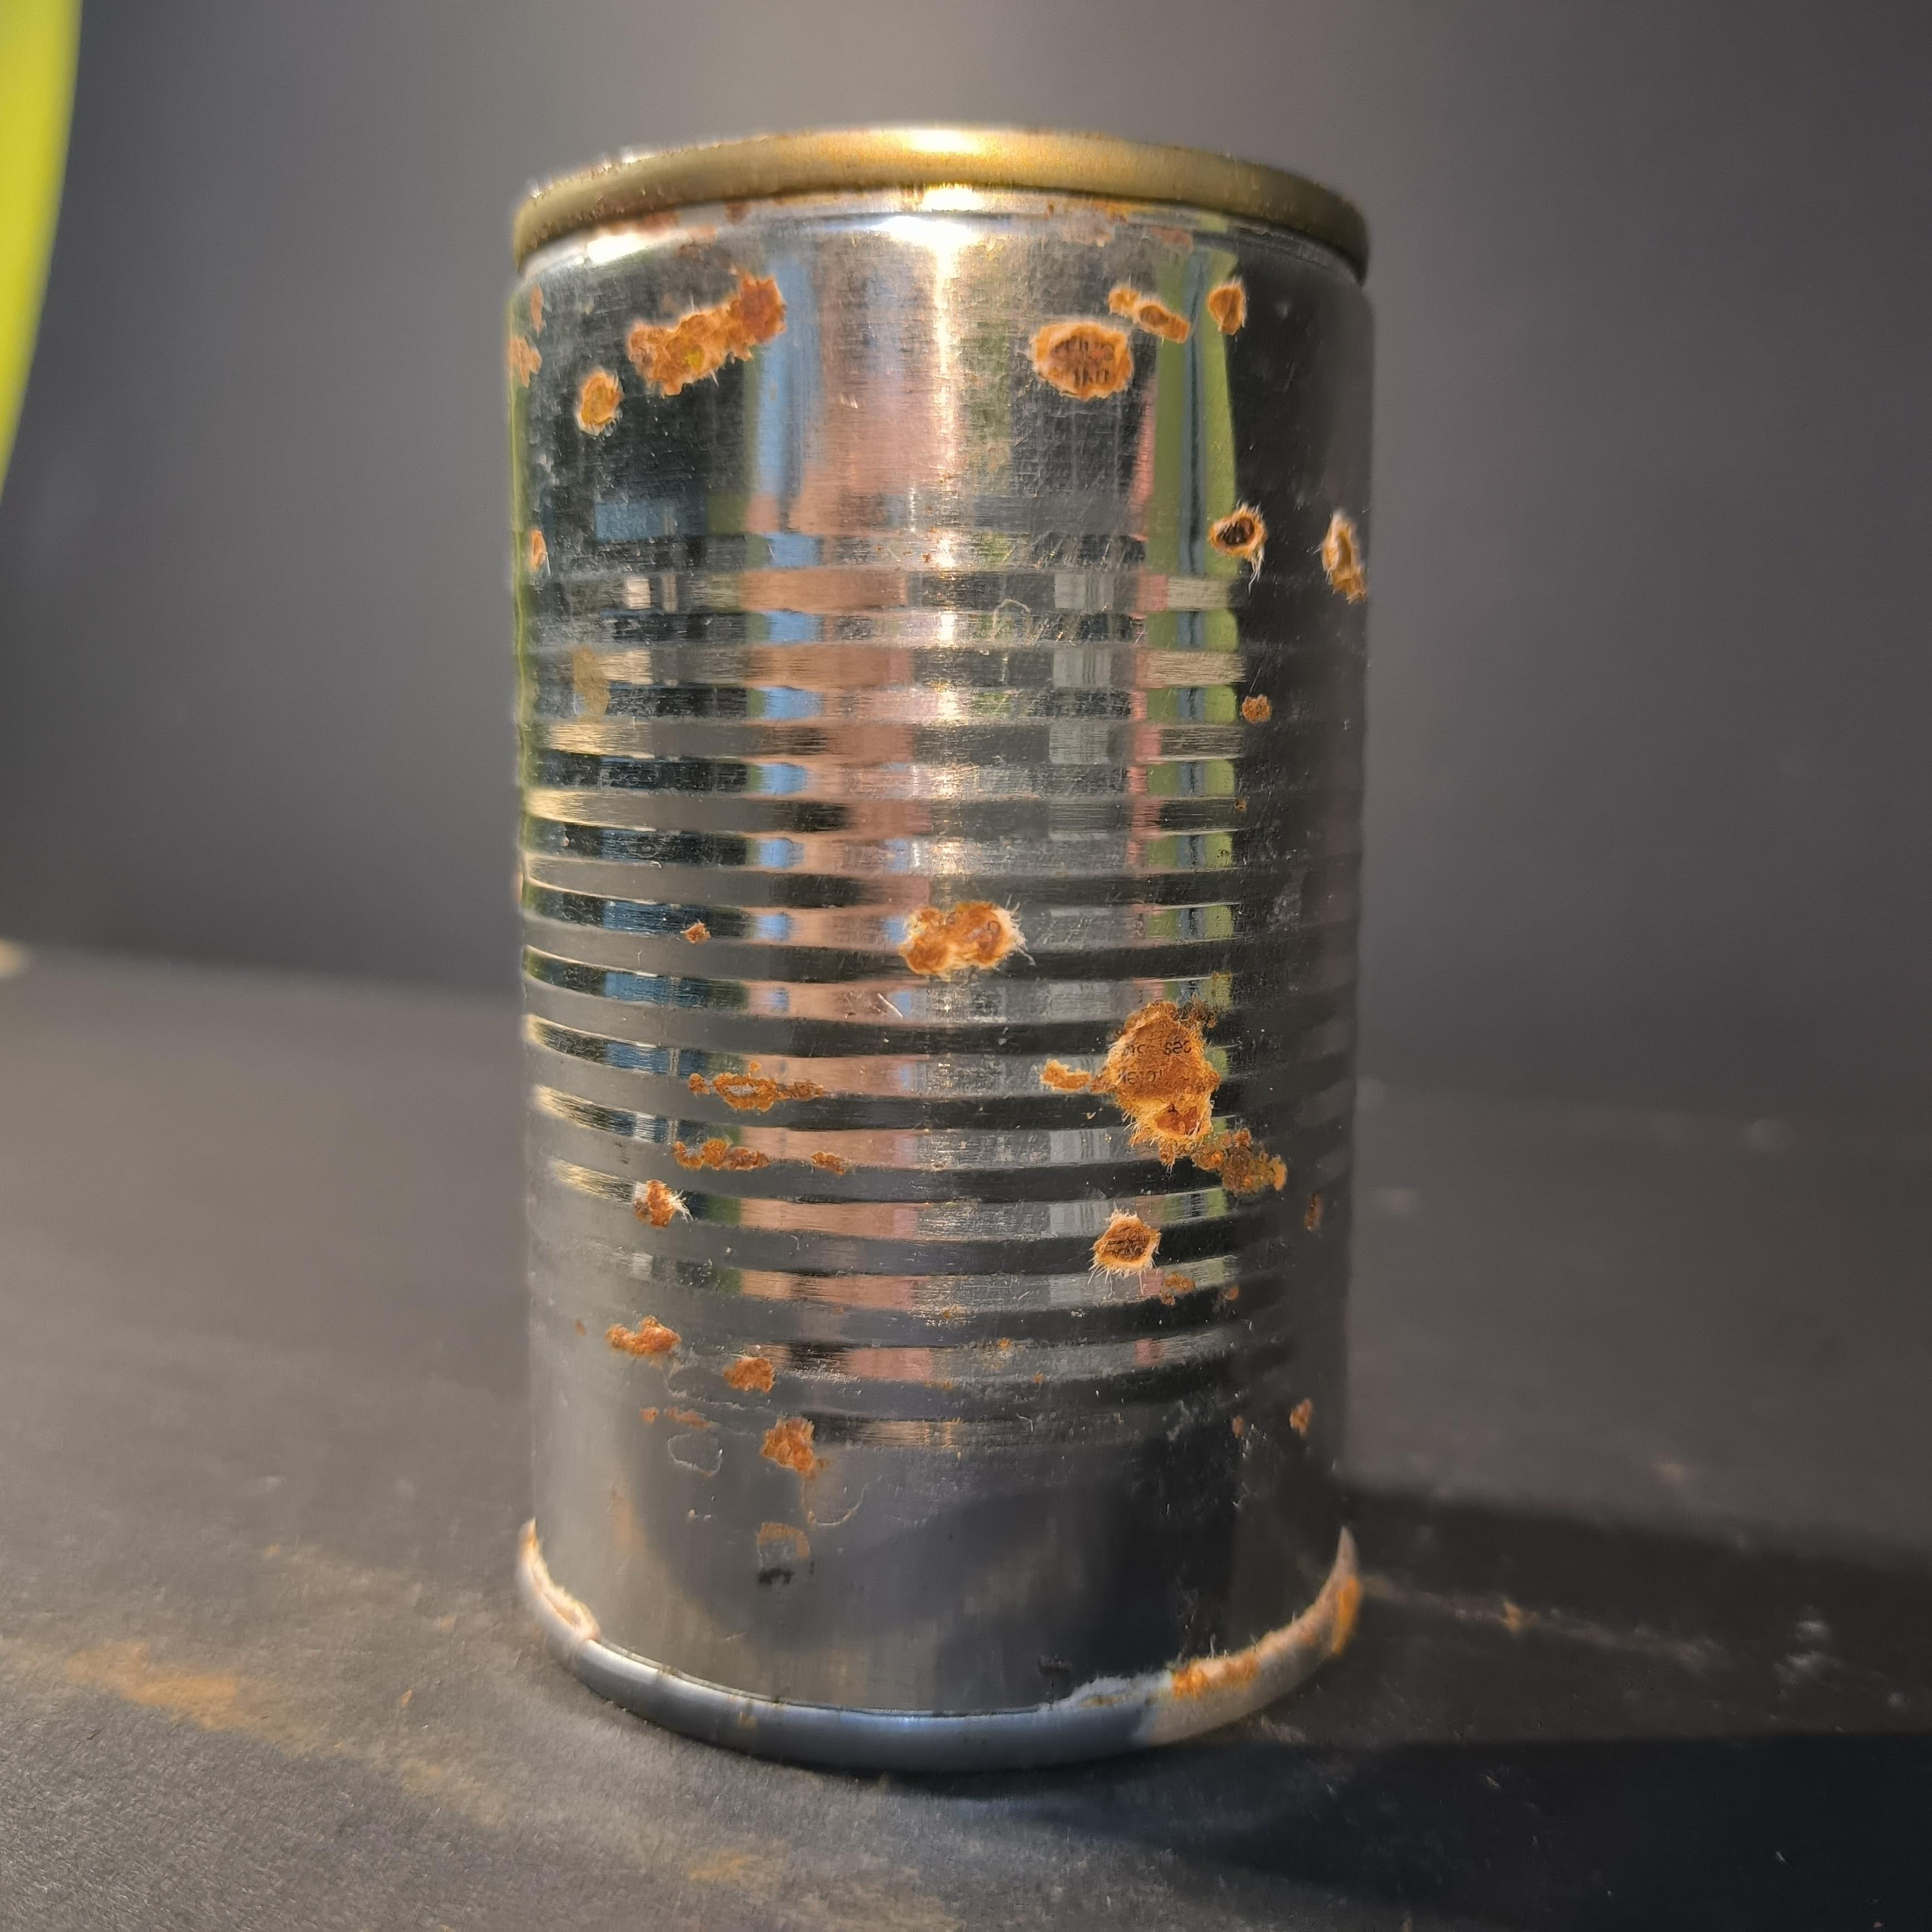Rusted: (476, 106, 1394, 1769)
